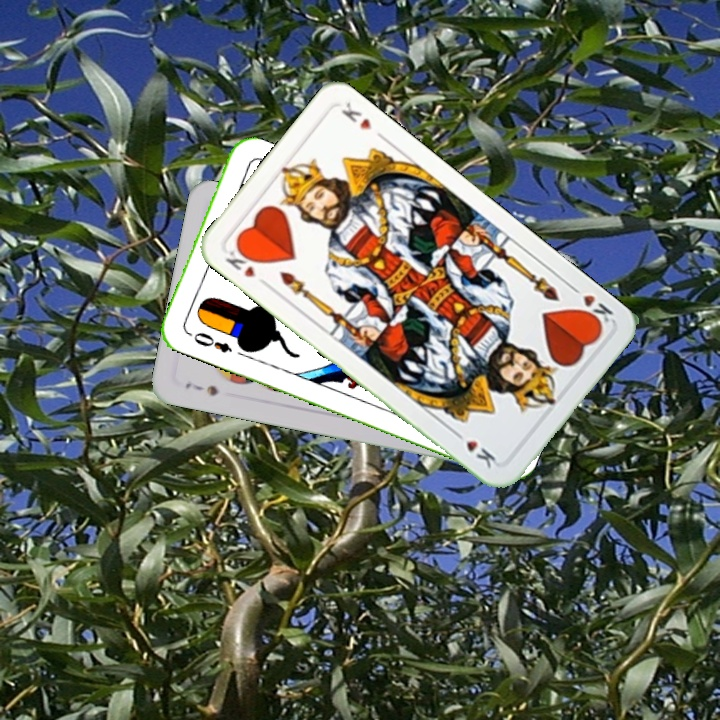EO: (189, 328, 235, 356)
HK: (565, 281, 616, 330), (221, 242, 271, 290)
S7: (181, 378, 221, 399)
